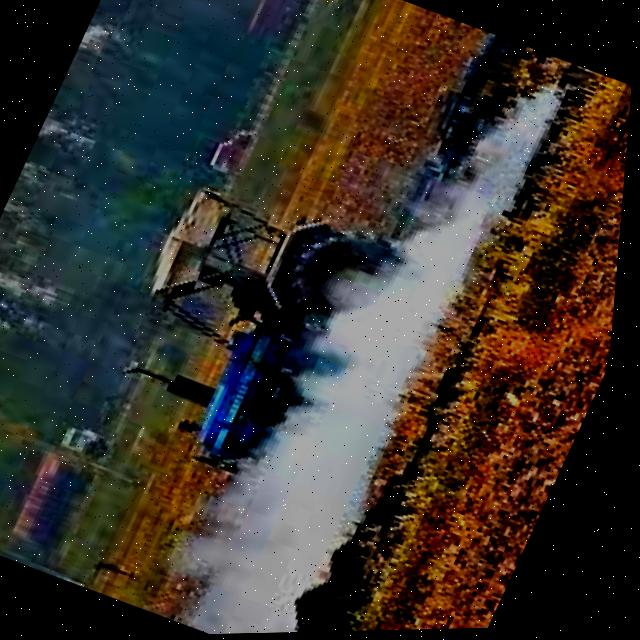Smoke: (193, 57, 563, 636)
